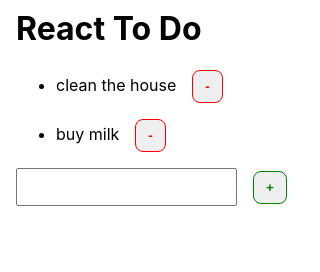
Scenario: <ToDo/> › Adding items › When the add button is pressed, if the input field has text, it creates a new todo item
Type "Create more tests" into the field at [126, 187], box [16, 168, 237, 206]
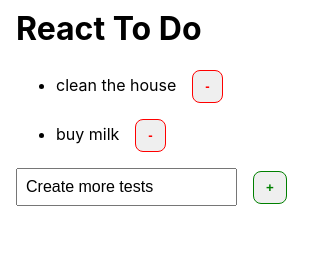
Click the button with class "ToDo-Add" at [270, 187], box [253, 171, 287, 204]
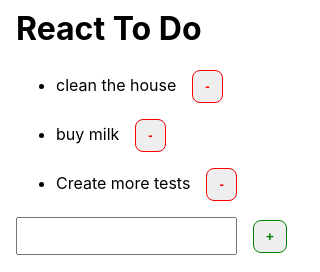
Expected: the text with class "ToDoItem-Text" reads "Create more tests", [56, 173, 190, 193]
